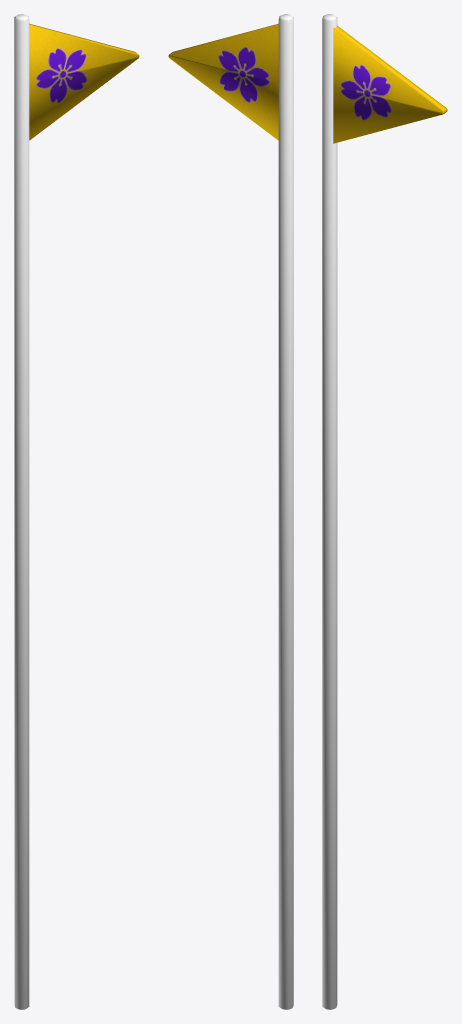
Rendered from Goal_Flag.glb.
3 renders of one model, left to right at view 1: azimuth 30°, elevation 25°; view 2: azimuth 150°, elevation 25°; view 3: azimuth 330°, elevation 25°, orthographic.
Parts seen in each view (by area): view 1: Goal_Flag; view 2: Goal_Flag; view 3: Goal_Flag.
Part boxes in pixels (box(x1,y1,x2,y2)): Goal_Flag: box(14, 14, 139, 1009); Goal_Flag: box(168, 14, 293, 1009); Goal_Flag: box(322, 14, 447, 1009).
Size of the model in its own units: 0.1296 by 1 by 0.014.
Materials: 1 (1 with a texture image).
